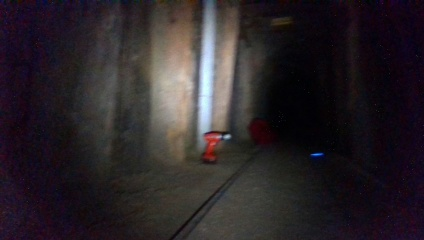backpack: (247, 117, 276, 146)
drill: (199, 129, 234, 167)
